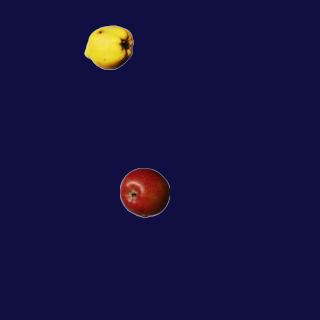Apple Braeburn: (119, 167, 169, 217)
Quince: (83, 22, 133, 72)
